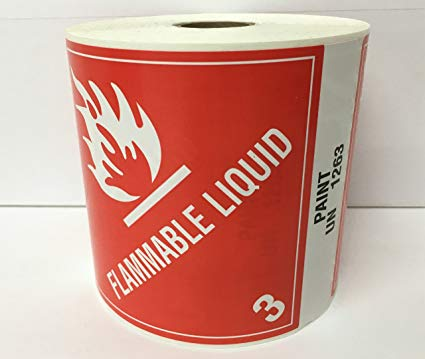FlammableLiquid: (72, 48, 298, 331)
